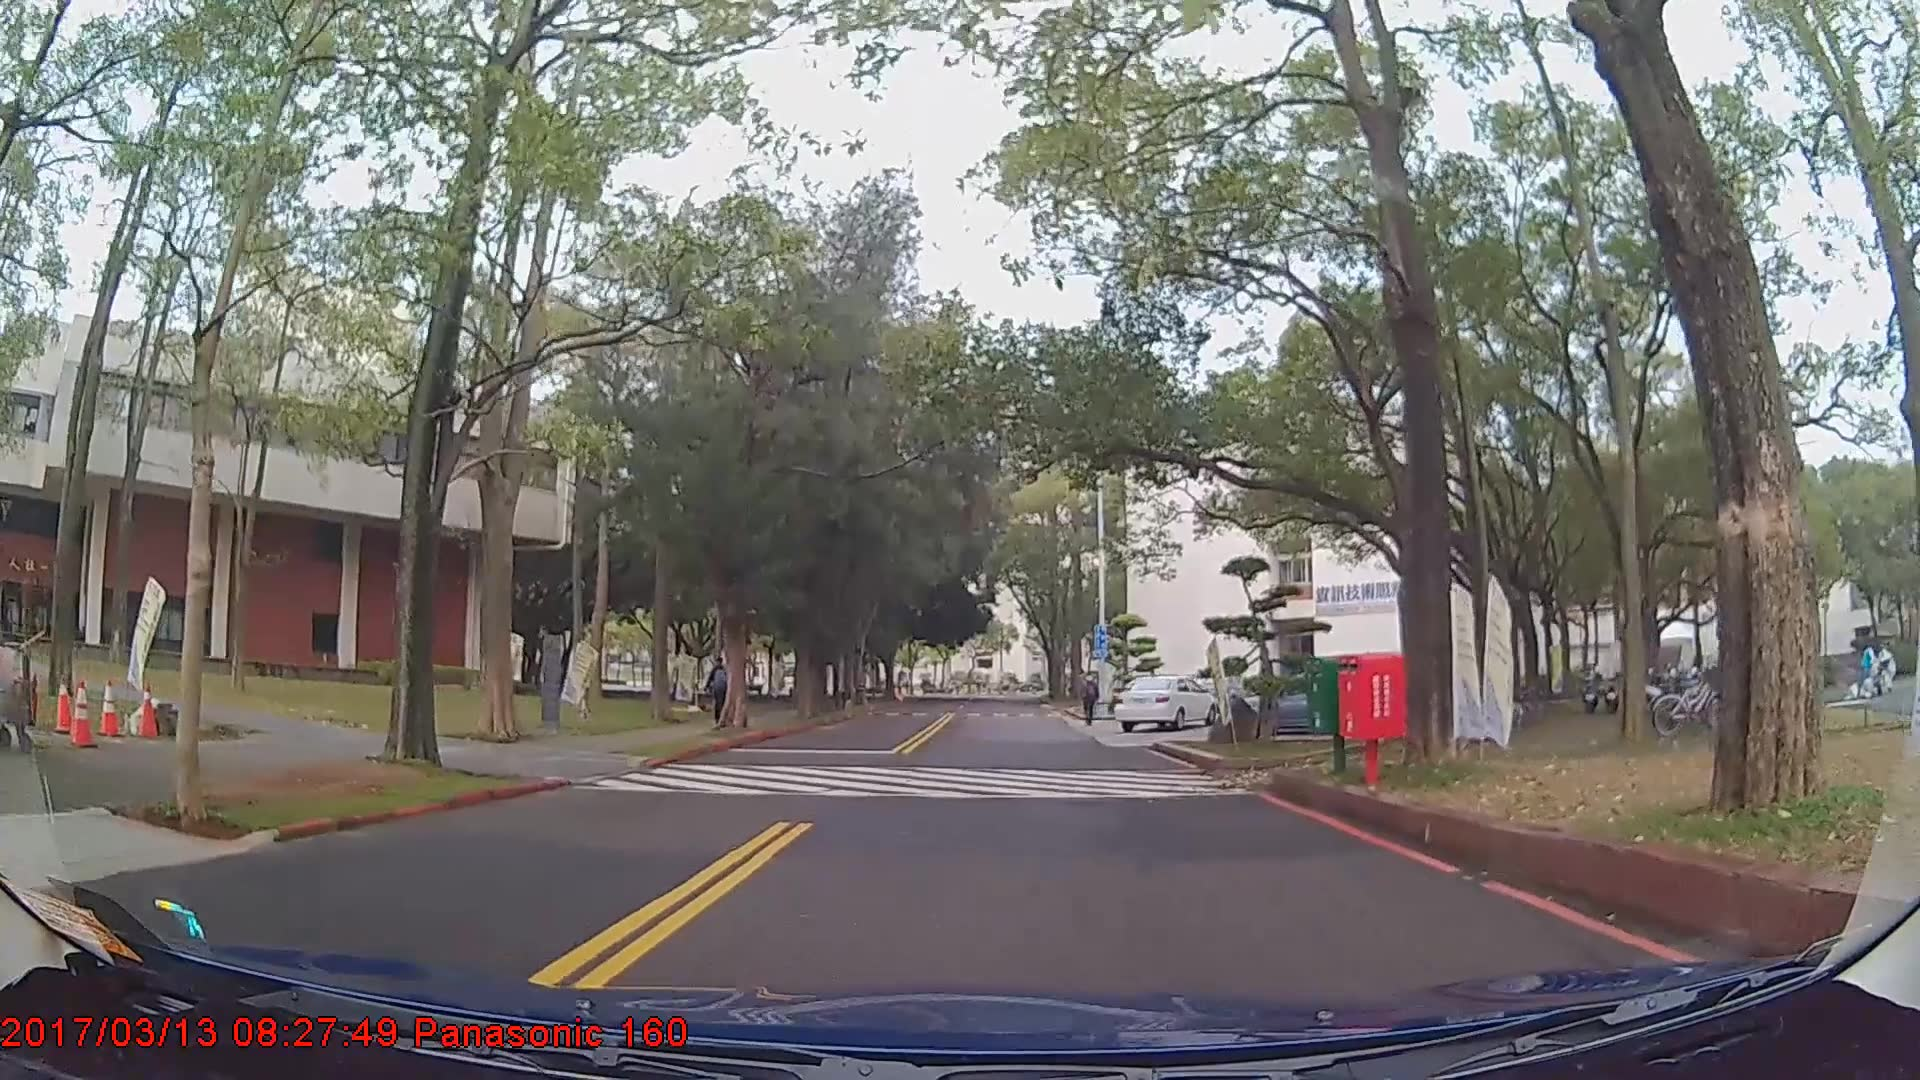pedestrian: (707, 659, 738, 728), (1078, 672, 1101, 727)
vehicle: (1115, 671, 1218, 731)
